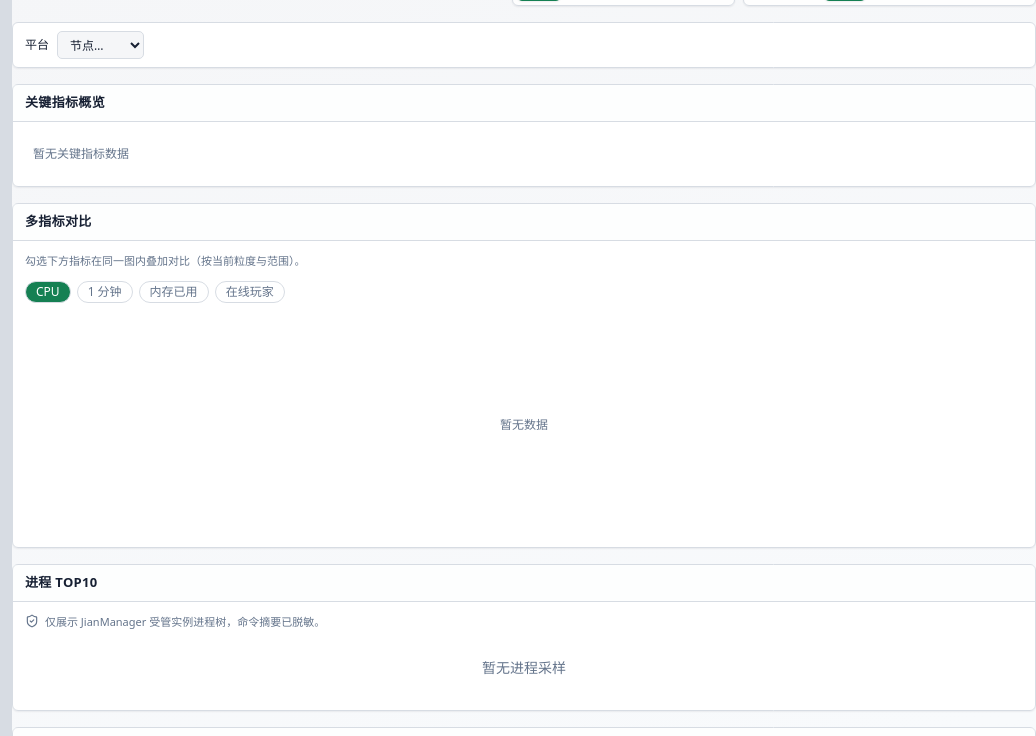
it: MonitoringPage（mock 假后端） › ② 下钻选择器联动出 seed 节点，且能下钻到节点视图（FR-221）
Expected: the text "平台" is shown, [25, 37, 49, 53]
# 下钻到该节点 → 面包屑出现节点名（变为节点视图）。
Step 1. Select "北京节点" in the dropdown named "下钻到实例" → (100, 45), box [57, 31, 144, 59]
(page scrolled)
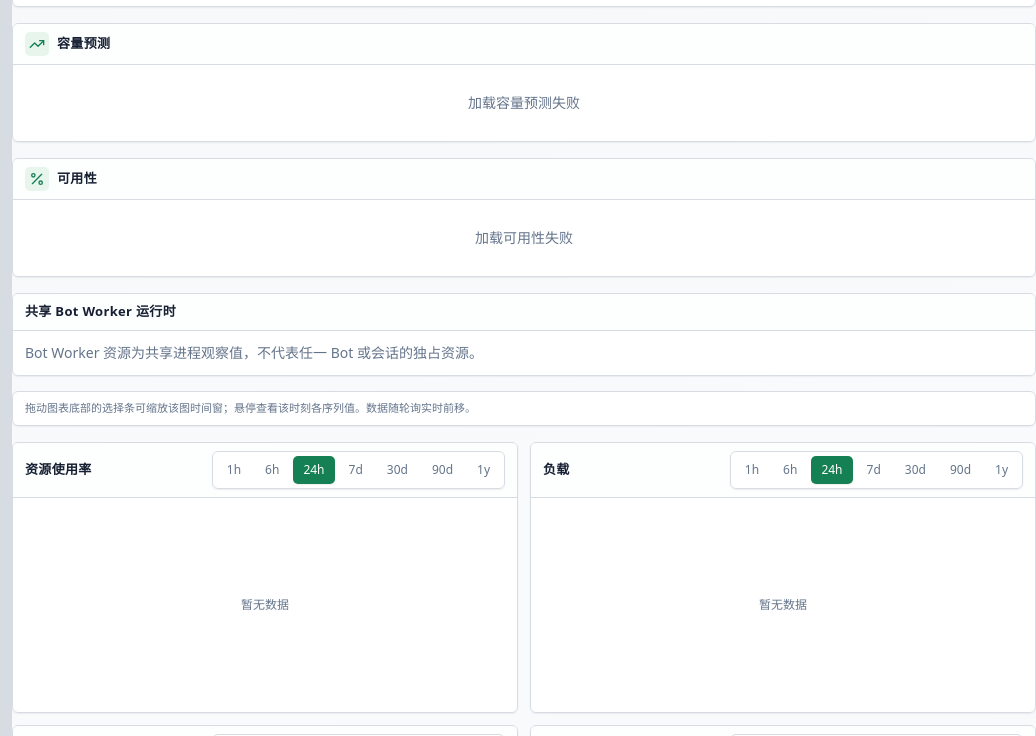
Now the text "共享 Bot Worker 运行时" is shown, box [25, 302, 176, 321]
Now the text "Bot Worker 资源为共享进程观察值，不代表任一 Bot 或会话的独占资源。" is shown, box [25, 342, 483, 361]
